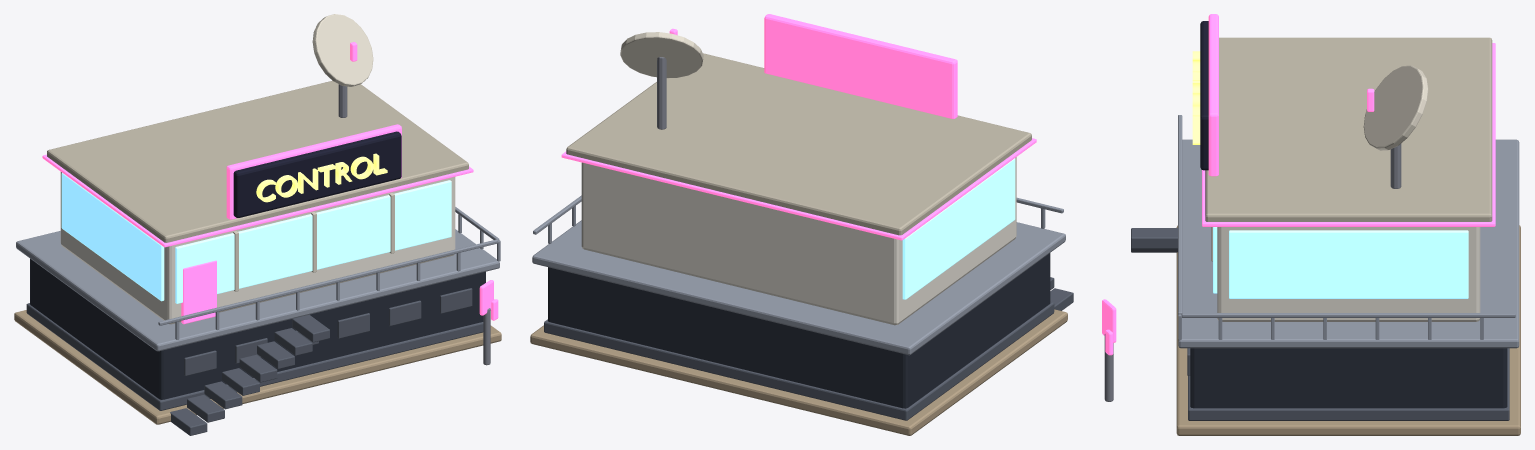
The model's file is control-room-CFNdzn_u.glb.
3 renders of one model, left to right at view 1: azimuth 30°, elevation 25°; view 2: azimuth 150°, elevation 25°; view 3: azimuth 270°, elevation 25°, orthographic. The views are drawn at different scales.
Parts seen in each view (by area): view 1: cabin_roof, lower, glass_front, deck, cabin, sign_board, plinth, glass_side_l, lower_band, dish, roof_edge, sign_text (+15 smaller); view 2: cabin_roof, cabin, lower, deck, sign_rim, plinth, glass_side_l, lower_band, dish, roof_edge, mast; view 3: cabin_roof, lower, deck, glass_side_r, cabin, plinth, lower_band, dish, roof_edge, sign_rim, rail_top_s, sign_board (+6 smaller).
Part boxes in pixels (x1,y1,x2,y2): cabin_roof: (47, 80, 468, 242); lower: (30, 258, 485, 399); glass_front: (175, 180, 451, 303); deck: (16, 229, 499, 351); cabin: (60, 172, 455, 324); sign_board: (233, 131, 401, 217); plinth: (14, 310, 501, 424); glass_side_l: (61, 173, 164, 301); lower_band: (26, 303, 483, 410); dish: (312, 14, 373, 86); roof_edge: (42, 154, 473, 247); sign_text: (256, 153, 387, 202); cabin_roof: (566, 53, 1031, 235); cabin: (581, 157, 1016, 325); lower: (548, 253, 1050, 408); deck: (532, 220, 1065, 355); sign_rim: (764, 14, 957, 118); plinth: (530, 309, 1067, 435); glass_side_l: (902, 158, 1015, 299); lower_band: (544, 301, 1054, 420); dish: (620, 32, 703, 78); roof_edge: (561, 138, 1036, 240); mast: (657, 57, 666, 129); cabin_roof: (1205, 37, 1492, 221); lower: (1190, 348, 1507, 408); deck: (1178, 139, 1519, 348); glass_side_r: (1229, 230, 1468, 298); cabin: (1217, 227, 1480, 321); plinth: (1176, 225, 1520, 435); lower_band: (1188, 348, 1509, 420); dish: (1363, 65, 1428, 150); roof_edge: (1202, 43, 1495, 226); sign_rim: (1208, 14, 1218, 176); rail_top_s: (1181, 313, 1515, 317); sign_board: (1200, 21, 1208, 170).
Bounding box in the file's own units: 14.2 × 10.6 × 12.41.
